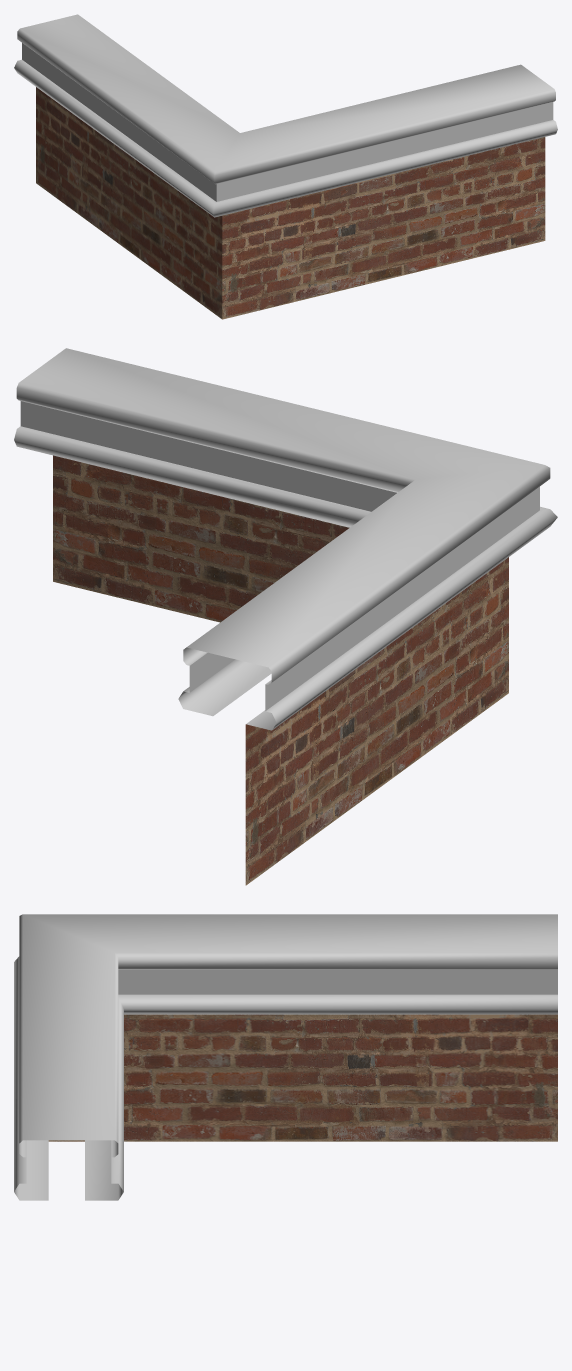
Rendered from SM_Wall_Crown_Corner_Inner.fbx.
The picture shows the model from 3 angles, top to bottom: view 1: azimuth 30°, elevation 25°; view 2: azimuth 150°, elevation 25°; view 3: azimuth 270°, elevation 25°; orthographic projection. The views are drawn at different scales.
Visible parts, largest first — view 1: SM_Wall_Crown_Corner_Inner; view 2: SM_Wall_Crown_Corner_Inner; view 3: SM_Wall_Crown_Corner_Inner.
Boxes of the visible parts, bbox=[...] form: SM_Wall_Crown_Corner_Inner: bbox=[14, 14, 557, 319]; SM_Wall_Crown_Corner_Inner: bbox=[14, 348, 557, 885]; SM_Wall_Crown_Corner_Inner: bbox=[14, 914, 557, 1200].
Bounding box in the file's own units: 748 × 748 × 328.
